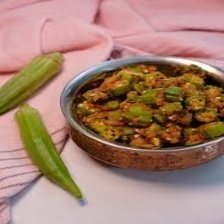sabzi: (71, 61, 224, 148)
